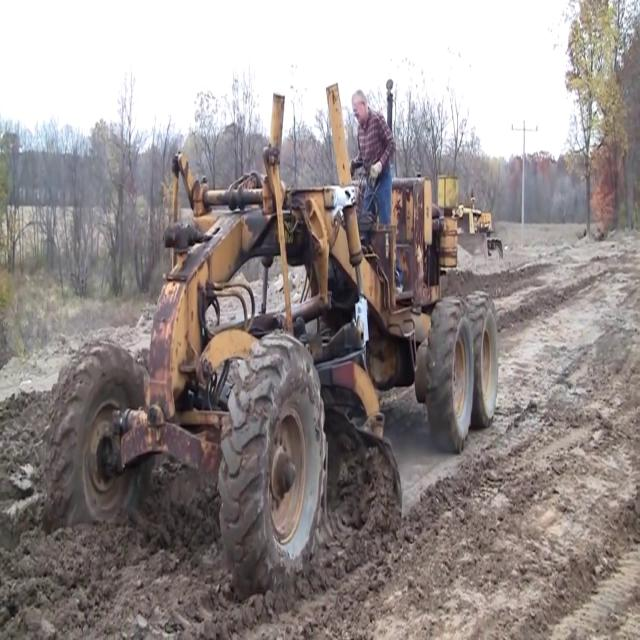buldozerpayloadergrader: (40, 174, 496, 566)
